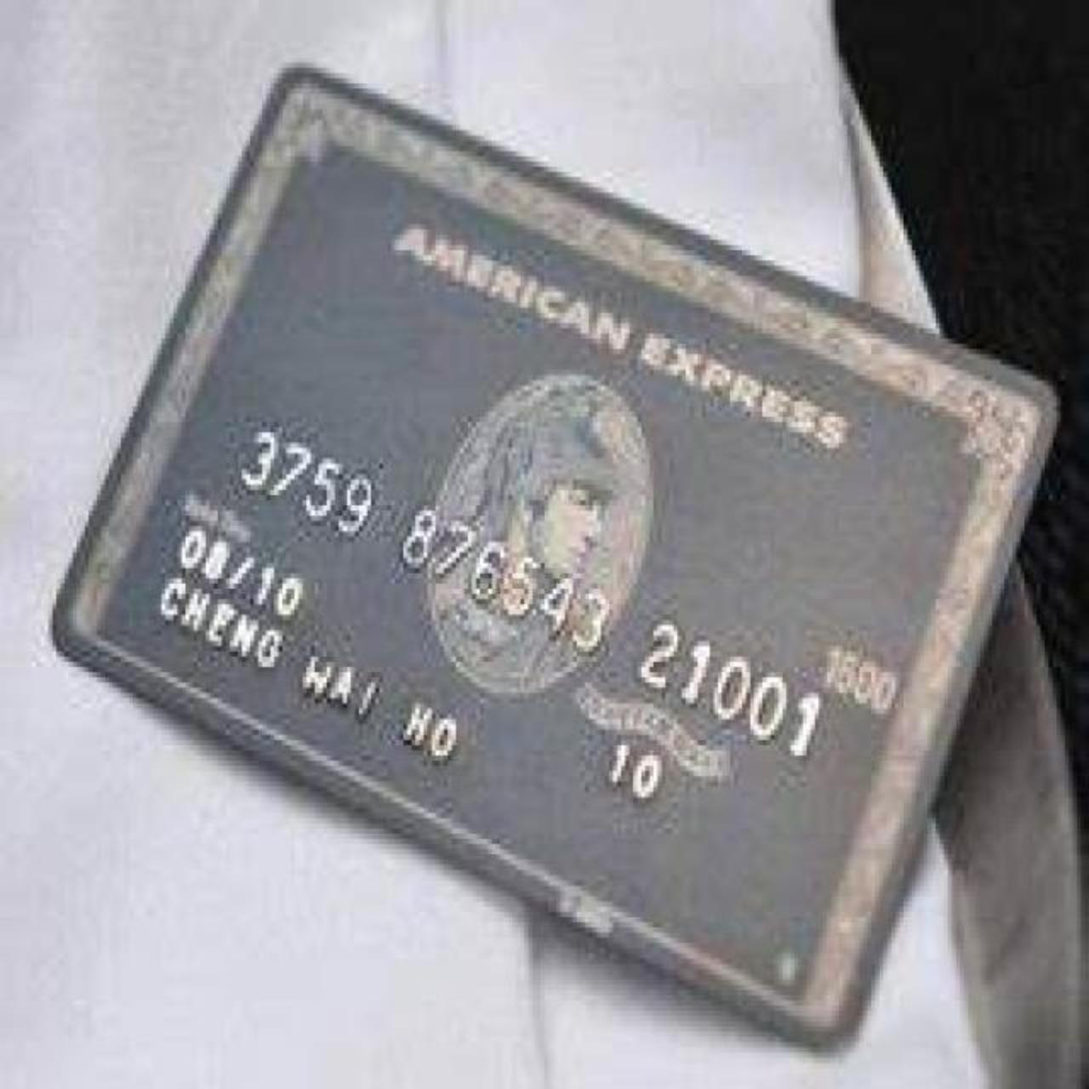credit_card: (27, 48, 1075, 1069)
